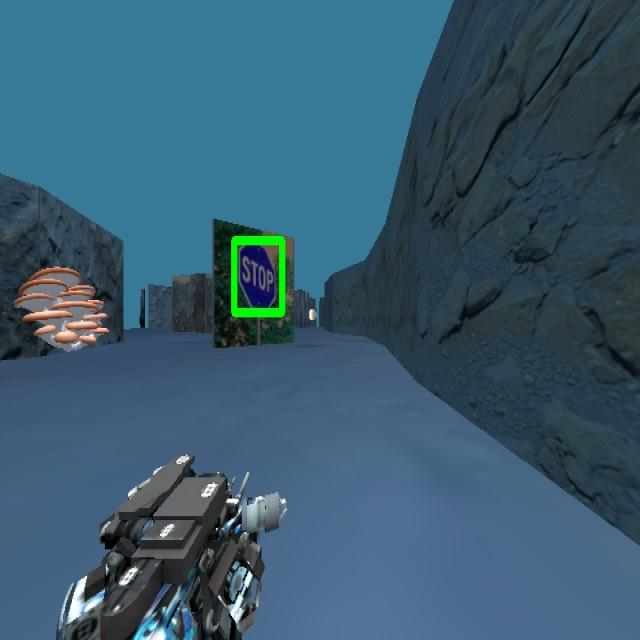Circle: (306, 304, 318, 326)
Diamon: (230, 233, 286, 319)
Mushroom: (12, 264, 108, 351)
